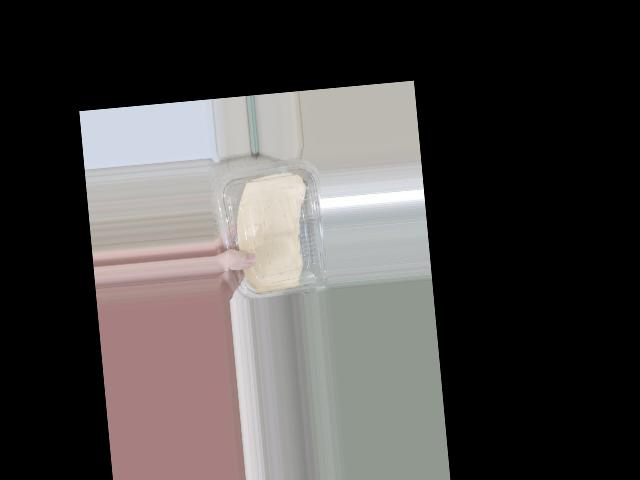cheese: (224, 157, 330, 300)
